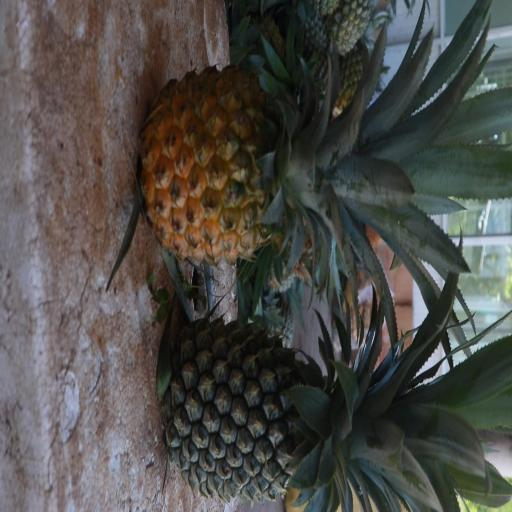Pineapple - v8 v1: (142, 74, 453, 263)
